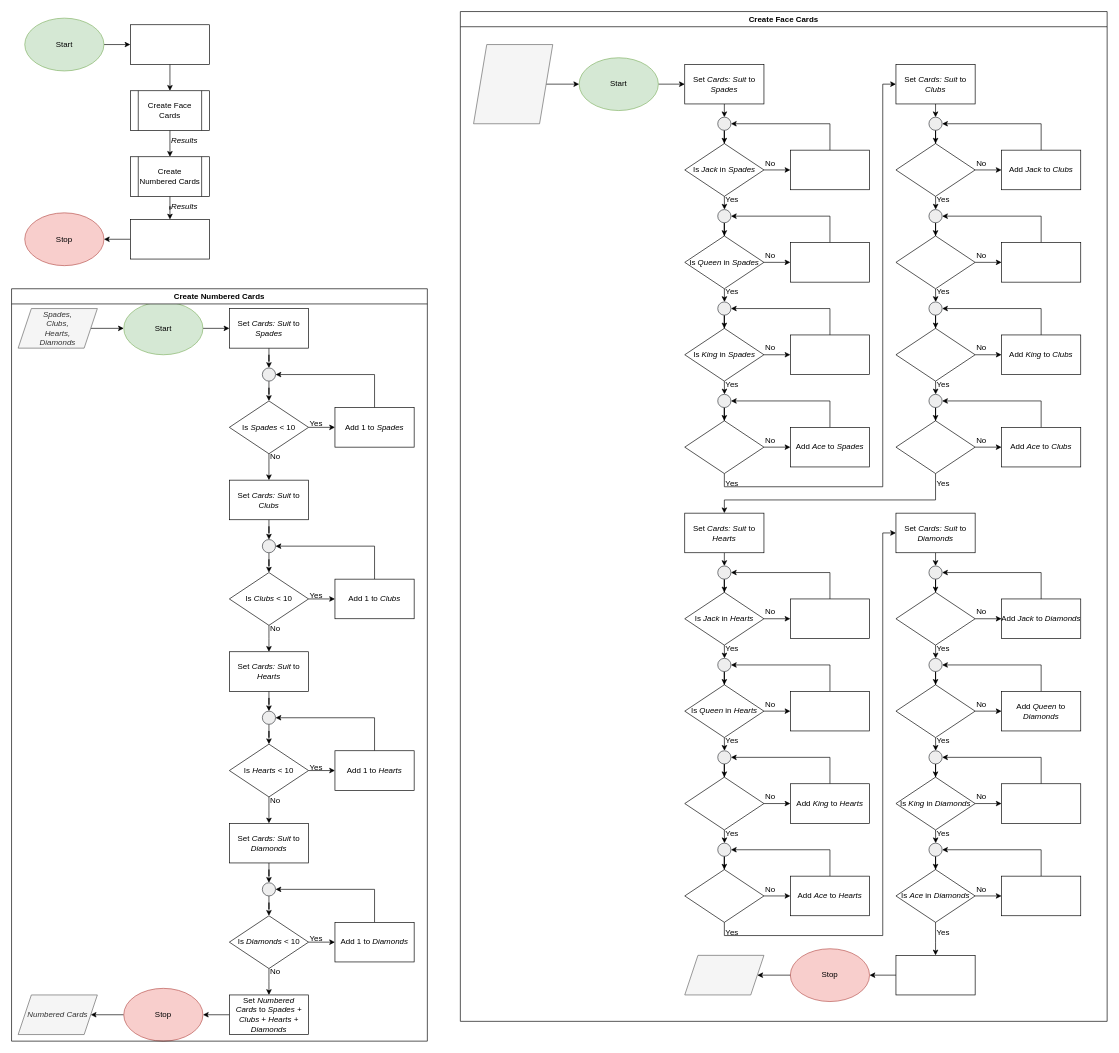
This 1119x1053 diagram has some shape labels left out. Each missing label, with the centre of its shape:
Add Ace to Diamonds: pixel 1041 895
Add Jack to Hearts: pixel 830 618
Add Jack to Spades: pixel 830 169
Add King to Diamonds: pixel 1041 803
Add King to Spades: pixel 830 354
Add Queen to Clubs: pixel 1041 262
Add Queen to Hearts: pixel 830 711
Add Queen to Spades: pixel 830 262
Face Cards: pixel 724 975
Is Ace in Clubs: pixel 935 447
Is Ace in Hearts: pixel 724 895
Is Ace in Spades: pixel 724 447
Is Jack in Clubs: pixel 935 169
Is Jack in Diamonds: pixel 935 618
Is King in Clubs: pixel 935 354
Is King in Hearts: pixel 724 803
Is Queen in Clubs: pixel 935 262
Is Queen in Diamonds: pixel 935 711
Jack, Queen, King, Ace, Spades, Clubs, Hearts, Diamonds: pixel 513 84
Set Cards to Numbered Cards + Face Cards: pixel 170 239
Set Cards to zero: pixel 170 44
Set Face Cards to Spades + Clubs + Hearts + Diamonds: pixel 935 975
